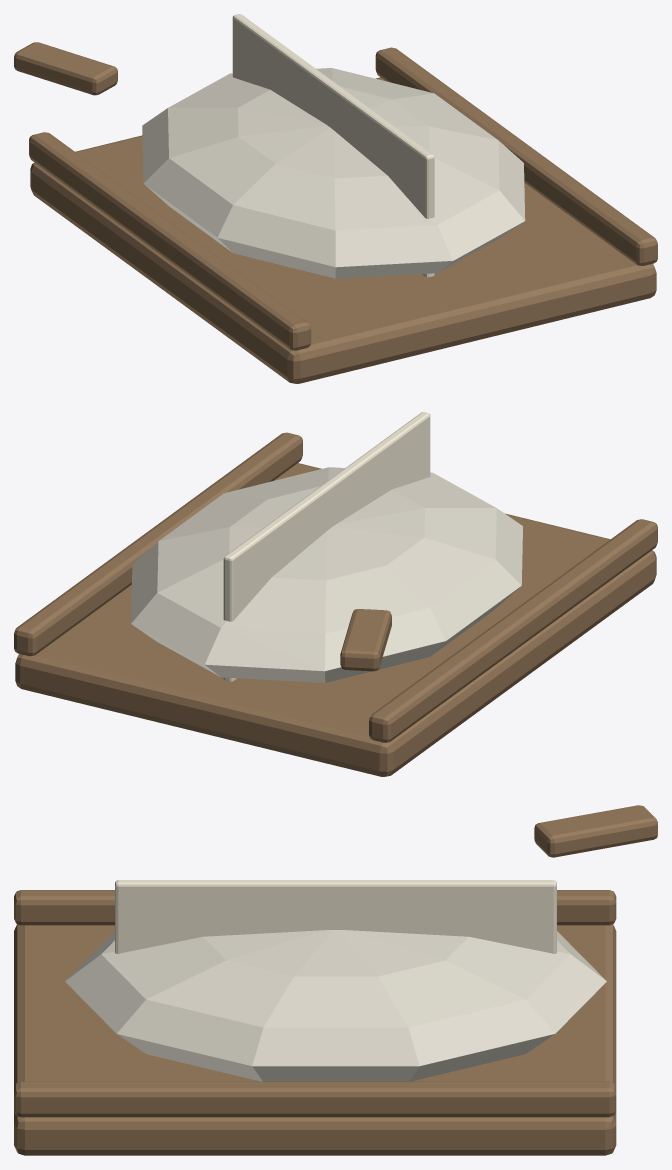
File: monastery_gold_leaf_cushion.glb
3 views of the same model, one above another, from view 1: azimuth 30°, elevation 25°; view 2: azimuth 150°, elevation 25°; view 3: azimuth 270°, elevation 25° (orthographic). The views are drawn at different scales.
Parts seen in each view (by area): view 1: world; view 2: world; view 3: world.
Part boxes in pixels (x1,y1,x2,y2): world: (14, 14, 657, 383); world: (14, 412, 657, 776); world: (14, 805, 657, 1155).
Bounding box in the file's own units: 1.5 × 0.686 × 2.
